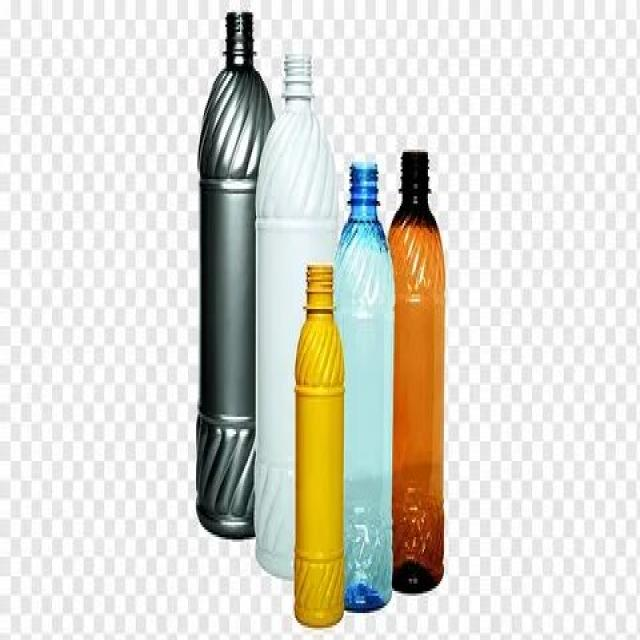blue: (332, 167, 396, 611)
brown: (387, 152, 446, 593)
